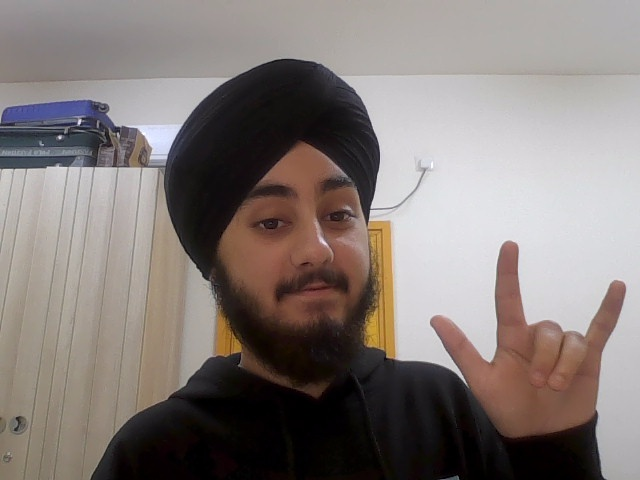ILoveYou: (429, 230, 633, 434)
